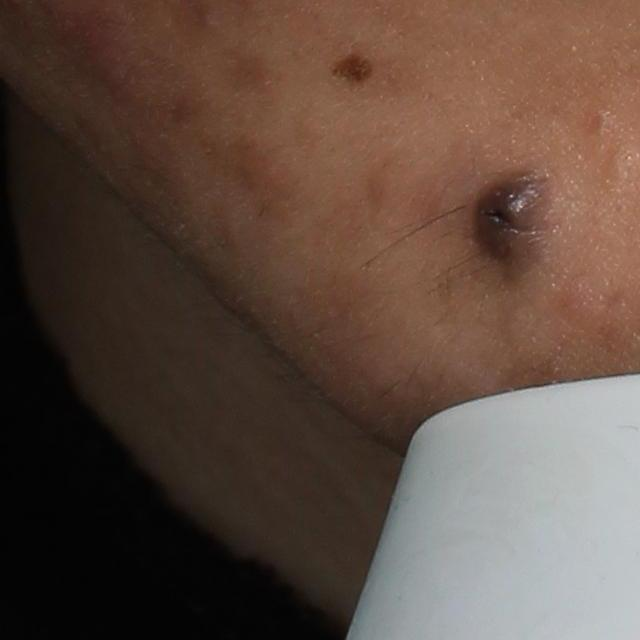nevus: (452, 167, 553, 280), (321, 49, 381, 93)
